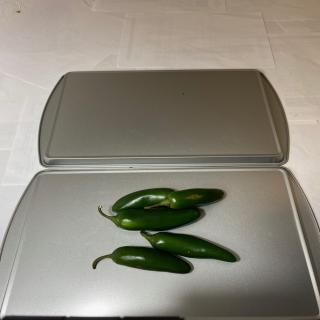Tomato: (140, 230, 237, 263), (92, 246, 192, 274), (98, 205, 201, 231), (144, 188, 225, 210), (111, 188, 175, 213)
